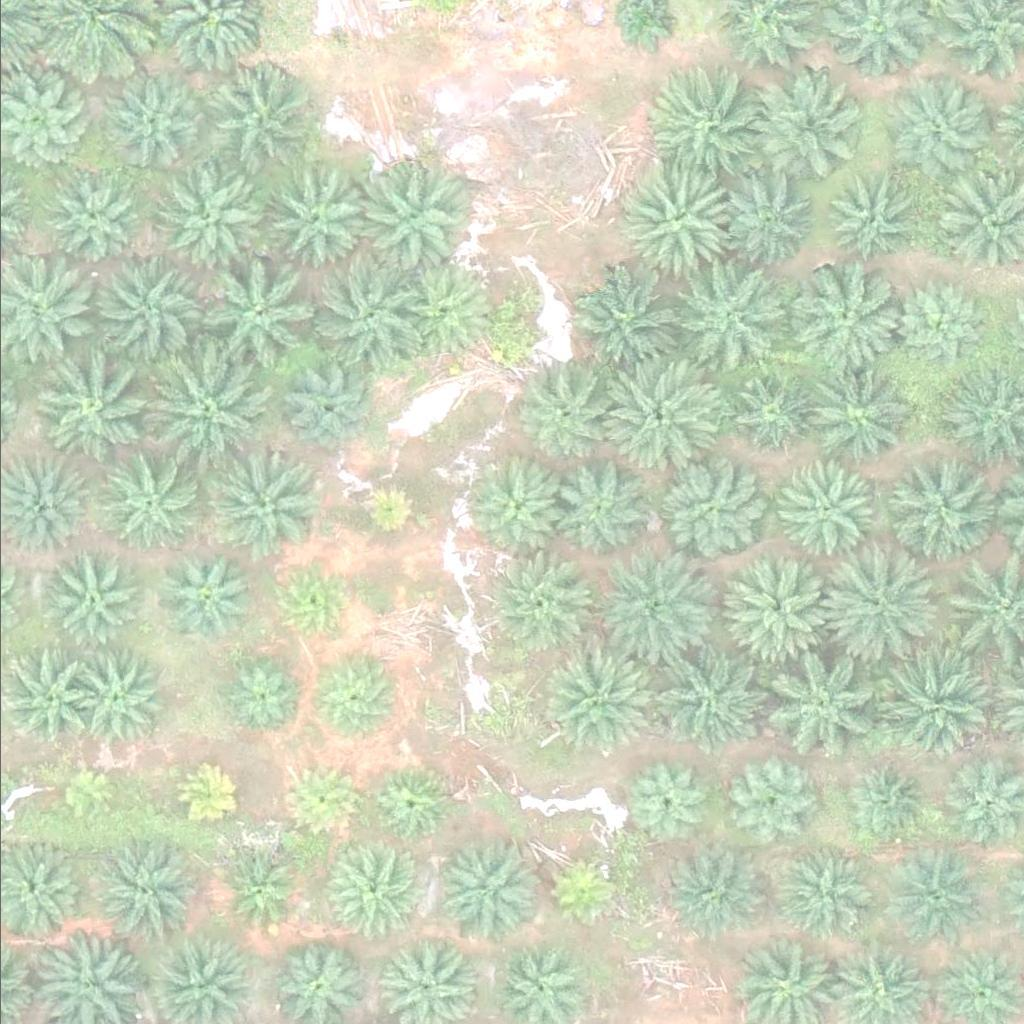Kelapa_Sawit: (90, 835, 204, 948), (814, 553, 928, 666), (90, 254, 203, 367), (874, 647, 987, 760), (758, 640, 871, 753), (684, 255, 797, 368), (567, 268, 680, 381), (620, 162, 733, 275), (879, 67, 992, 180), (760, 67, 873, 180), (646, 59, 759, 172), (143, 351, 256, 464), (194, 257, 307, 370), (351, 162, 464, 275), (642, 639, 756, 751), (538, 643, 652, 755), (481, 545, 595, 657), (785, 258, 899, 370), (34, 347, 147, 459), (593, 553, 706, 665), (720, 553, 833, 665), (884, 445, 997, 557), (796, 360, 909, 472), (608, 360, 721, 472), (207, 448, 320, 560), (311, 263, 424, 375), (161, 165, 274, 277), (198, 59, 311, 171), (66, 648, 167, 748), (153, 542, 254, 642), (37, 549, 138, 649), (97, 455, 198, 555), (776, 844, 877, 944), (667, 845, 768, 945), (430, 838, 531, 938), (322, 837, 423, 937), (770, 459, 871, 559), (658, 459, 759, 559), (549, 461, 650, 561), (510, 356, 611, 456), (713, 169, 814, 269), (826, 173, 927, 273), (393, 262, 494, 362), (259, 170, 360, 270), (874, 846, 974, 946), (464, 461, 564, 561), (539, 848, 627, 936), (311, 656, 399, 744), (219, 656, 307, 744), (279, 754, 367, 842), (368, 762, 456, 850), (623, 757, 711, 845), (731, 761, 819, 849), (725, 364, 813, 452), (895, 281, 983, 369), (286, 369, 374, 457), (45, 177, 133, 264), (100, 79, 188, 166), (269, 557, 357, 644), (219, 847, 307, 934), (839, 759, 927, 846), (169, 759, 245, 834), (353, 474, 416, 537), (53, 764, 116, 826)
